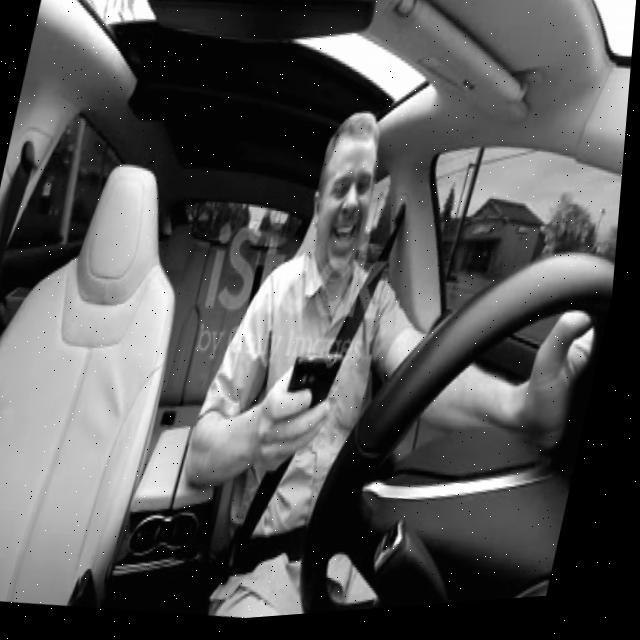PhoneCall: (286, 352, 352, 451)
